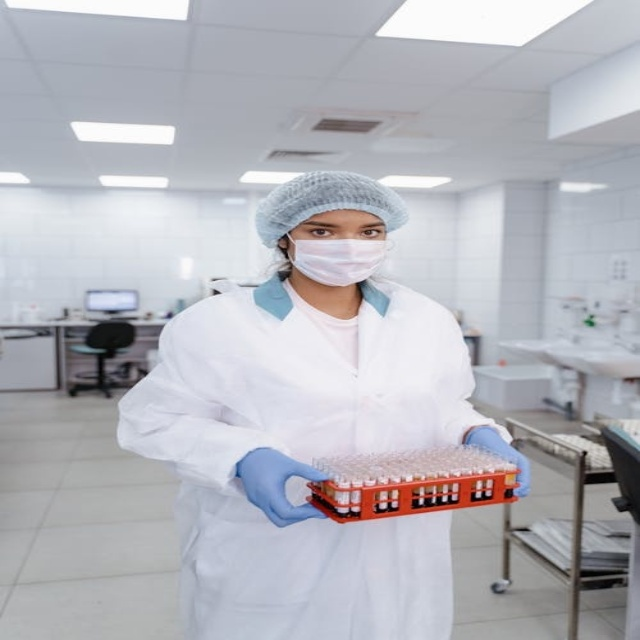Guantes: (236, 447, 335, 527), (463, 426, 530, 499)
Mascara: (286, 231, 391, 286)
Sin_gafas: (298, 219, 389, 239)
